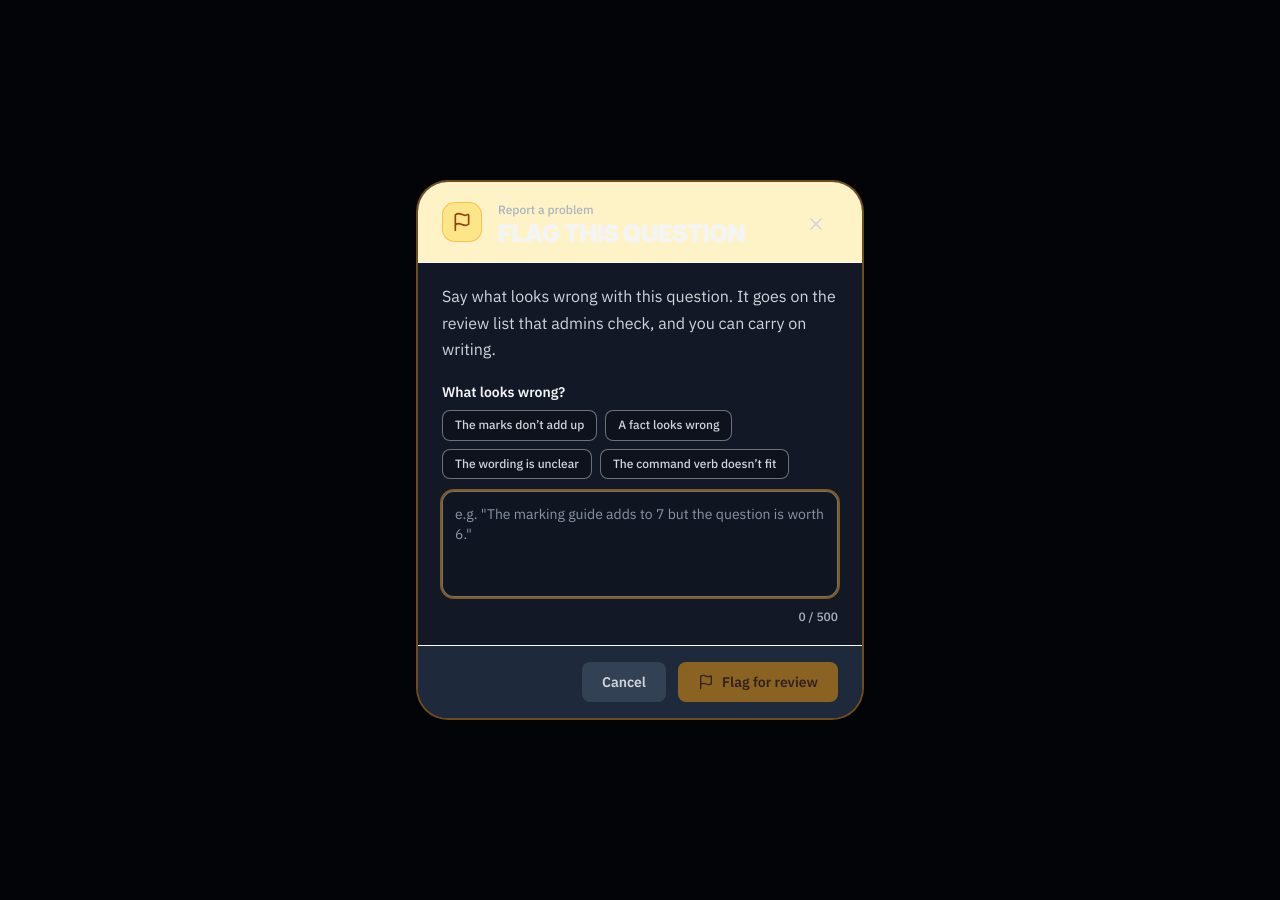
Test: FlagContentModal › stops the box at 500 characters and counts them
Replace the text in the text box labelled "What looks wrong?" with "abc" at (640, 544), box [442,491,838,597]
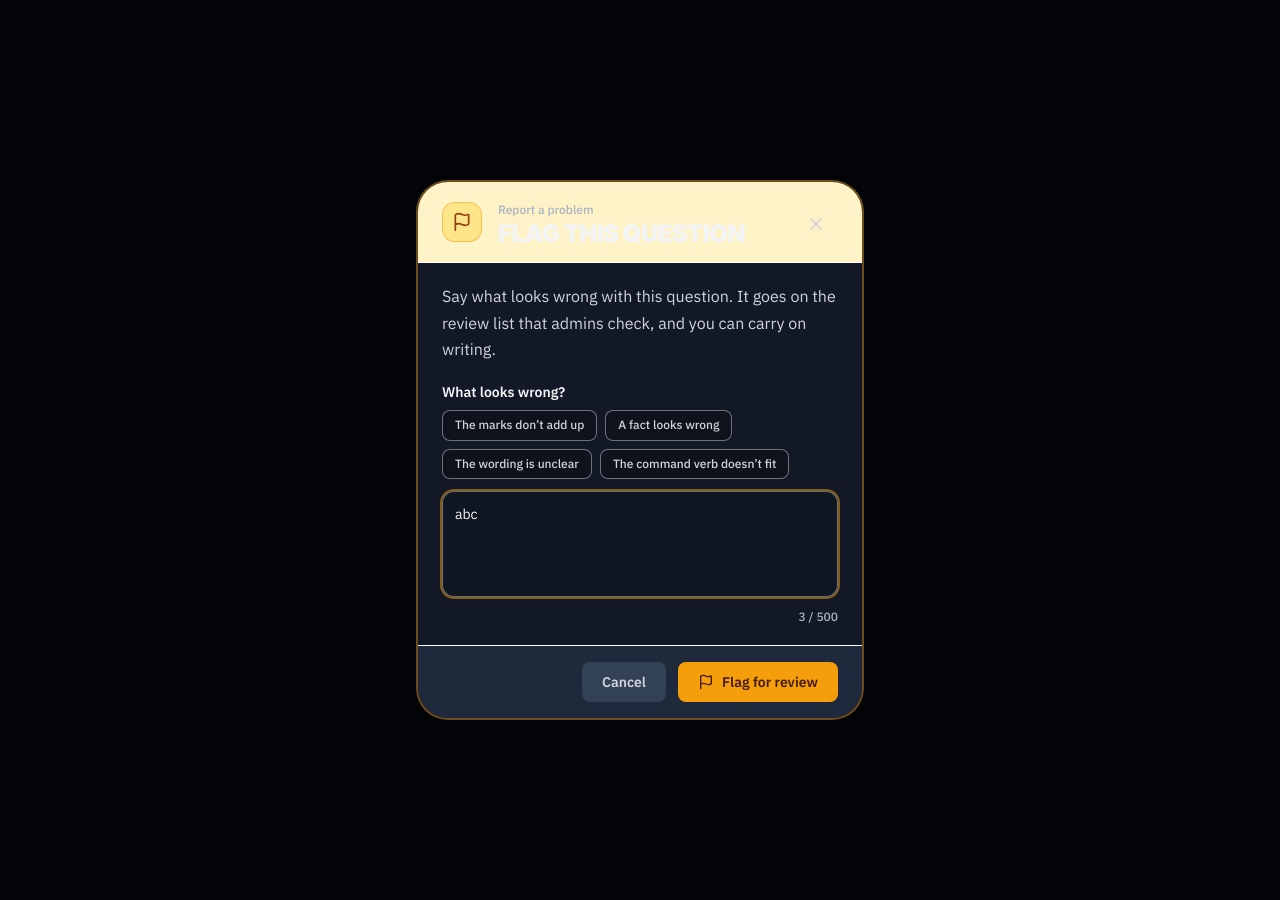
Now the text "3 / 500" is shown, box [798,609,838,624]
